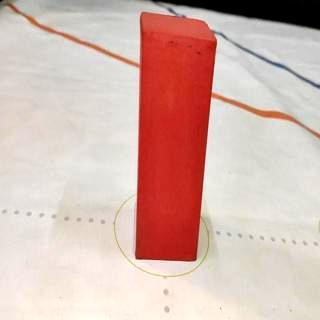redbox: (133, 12, 217, 260)
